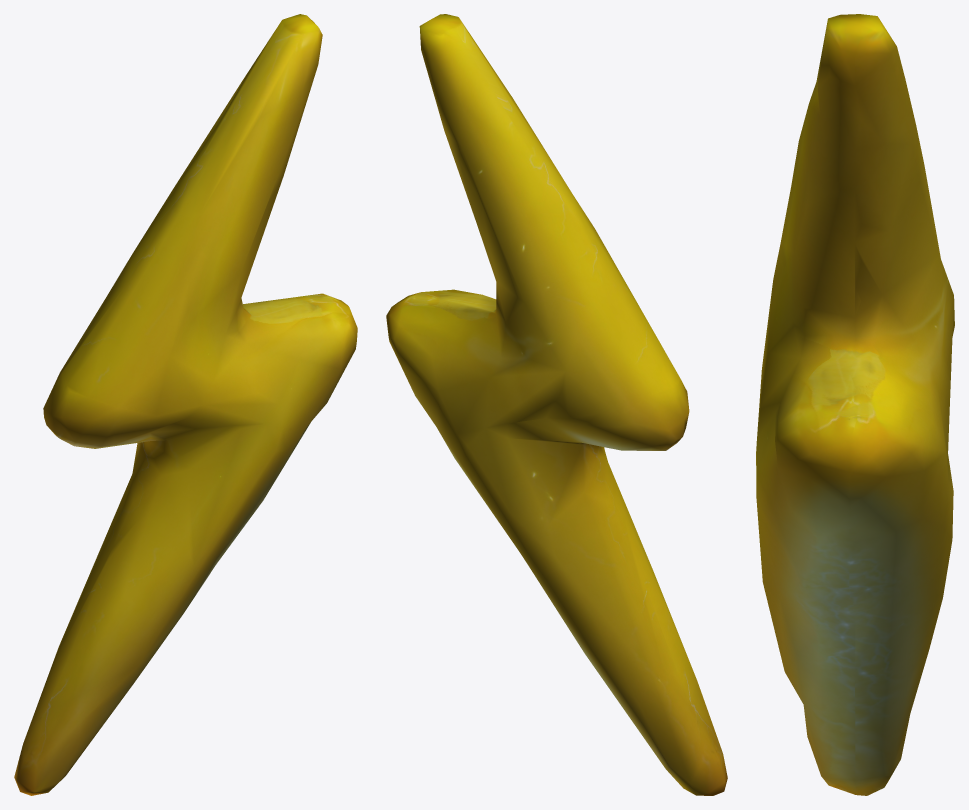
File: lightning.glb
The picture shows the model from 3 angles, left to right: view 1: azimuth 30°, elevation 25°; view 2: azimuth 150°, elevation 25°; view 3: azimuth 270°, elevation 25°; orthographic projection. The views are drawn at different scales.
Bounding box in the file's own units: 0.5932 × 1.2 × 0.228.
1 material, 1 textured.
